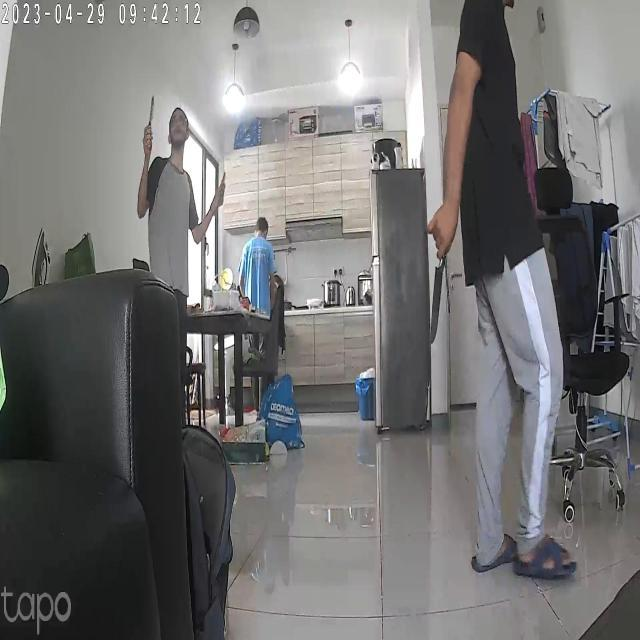Knife: (423, 240, 456, 362), (142, 91, 162, 137)
